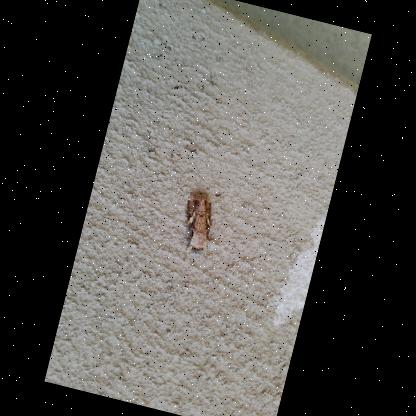Fall Armyworm Moth: (172, 188, 224, 268)
